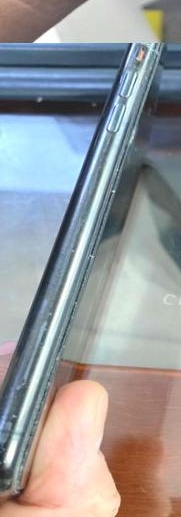scratch: (0, 301, 52, 484), (109, 112, 142, 149), (71, 227, 97, 260), (94, 166, 118, 196), (130, 43, 167, 62)
